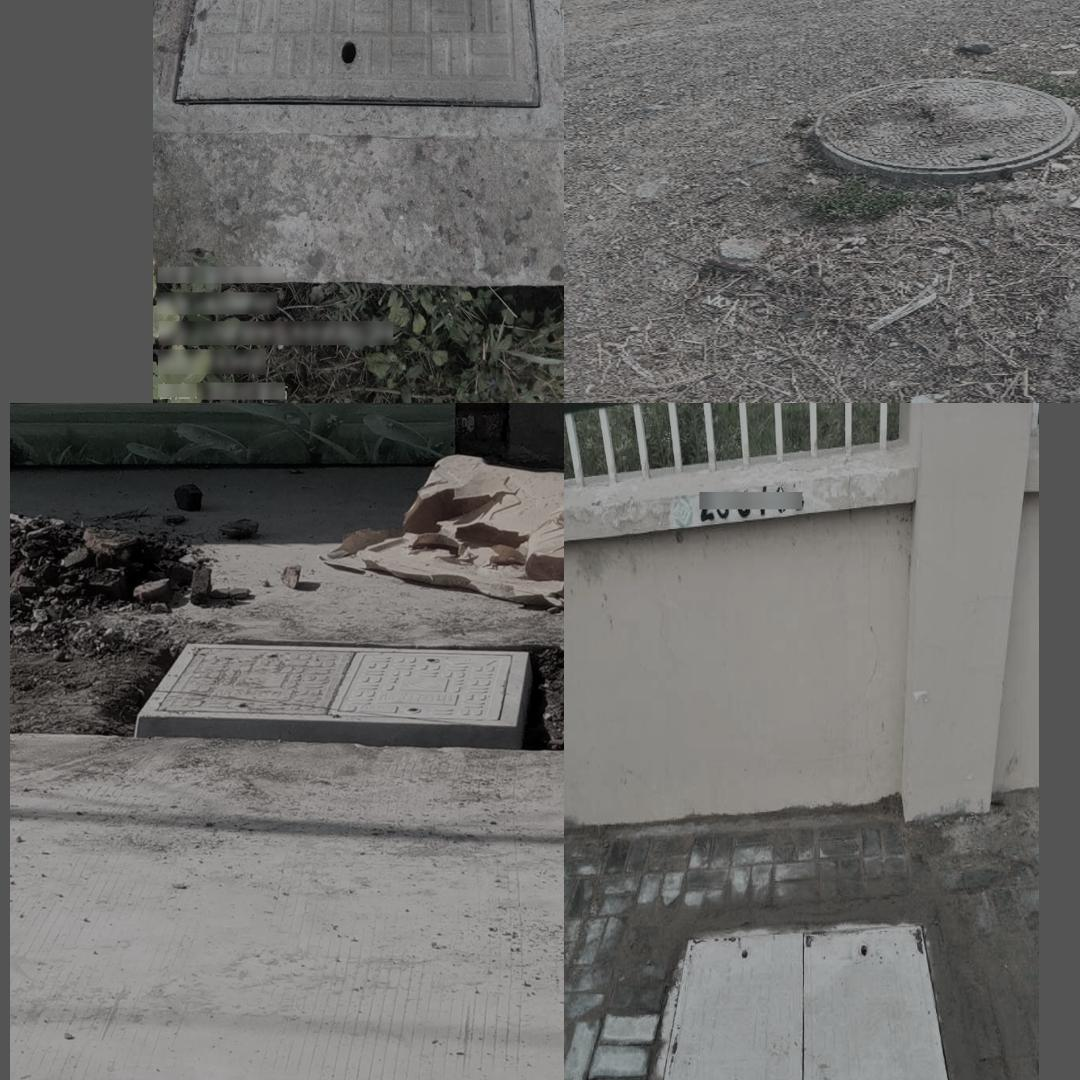good: (156, 0, 564, 142), (638, 922, 963, 1080), (138, 643, 531, 727), (813, 78, 1080, 175)
